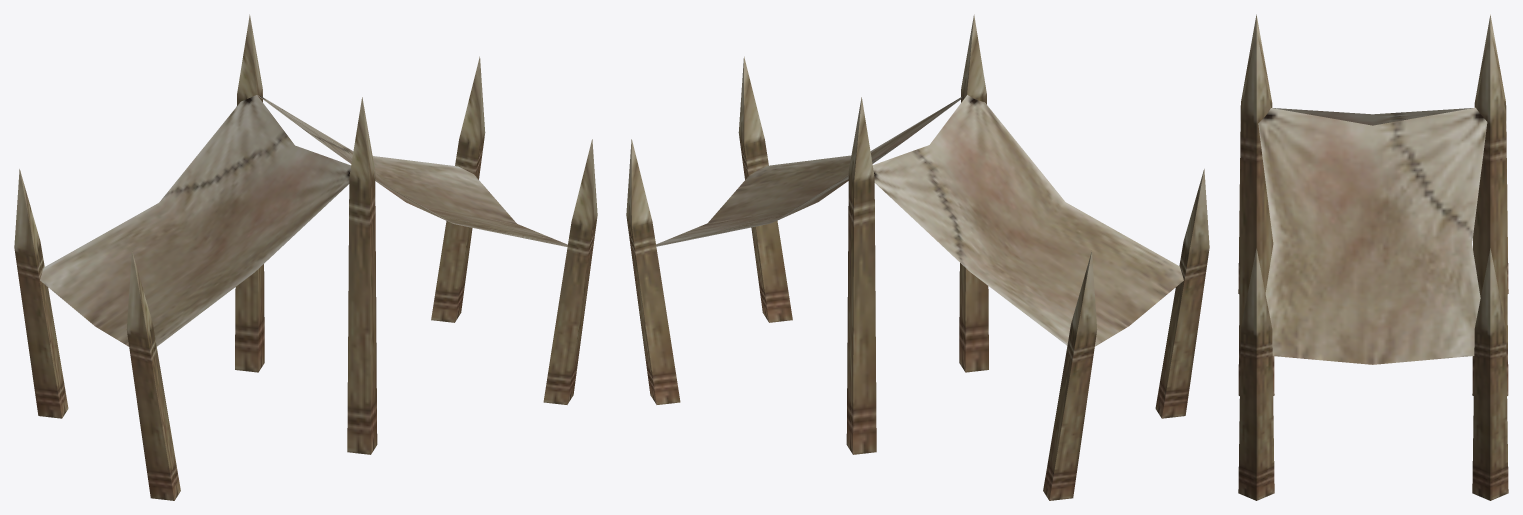
The model's file is cangku01_R.fbx.
3 renders of one model, left to right at view 1: azimuth 30°, elevation 25°; view 2: azimuth 150°, elevation 25°; view 3: azimuth 270°, elevation 25°, orthographic. The views are drawn at different scales.
Visible parts, largest first — view 1: cangku01_R; view 2: cangku01_R; view 3: cangku01_R.
Boxes of the visible parts, <box> form: cangku01_R: <box>14,14,597,500</box>; cangku01_R: <box>626,14,1209,500</box>; cangku01_R: <box>1238,14,1508,500</box>.
Bounding box in the file's own units: 5.85 × 4.18 × 2.79.
